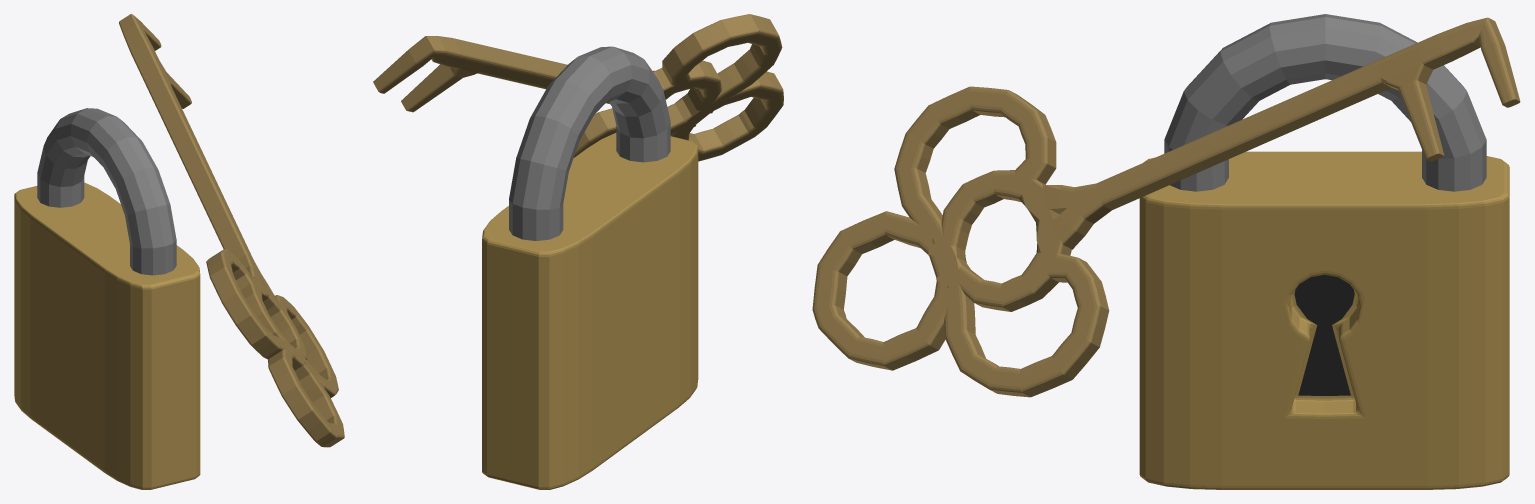
Rendered from key and lock.glb.
3 views of the same model, side by side, from view 1: azimuth 30°, elevation 25°; view 2: azimuth 150°, elevation 25°; view 3: azimuth 270°, elevation 25° (orthographic). The views are drawn at different scales.
Visible parts, largest first — view 1: Lock, Key; view 2: Lock, Key; view 3: Lock, Key.
Part boxes in pixels (box(x1,y1,x2,y2)): Lock: box(14, 108, 200, 489); Key: box(119, 14, 344, 447); Lock: box(482, 46, 698, 489); Key: box(373, 14, 783, 161); Lock: box(1139, 14, 1509, 489); Key: box(812, 17, 1520, 397).
Bounding box in the file's own units: 1.42 × 2.99 × 3.83.
